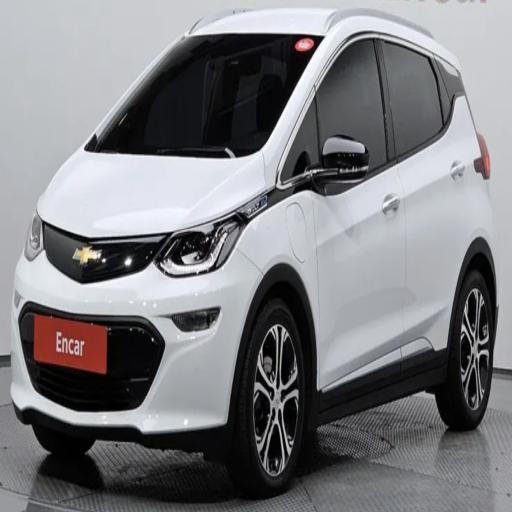normal: (2, 9, 505, 487)
